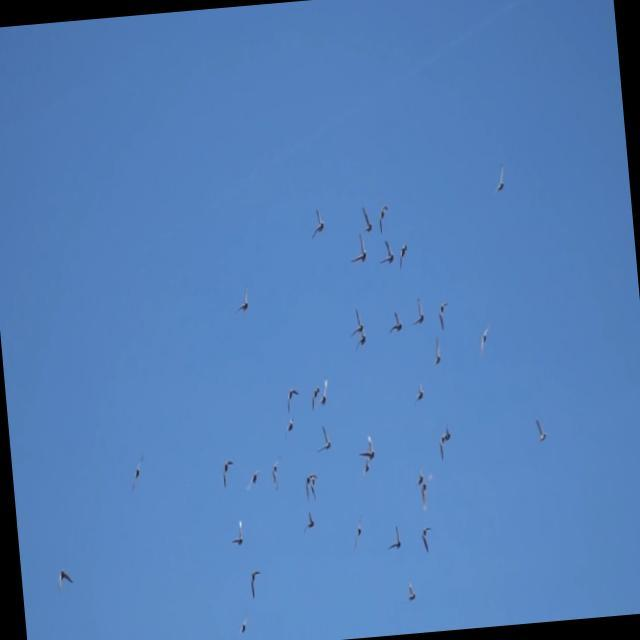bird: (417, 472, 435, 520), (434, 423, 454, 462), (347, 512, 367, 551), (475, 320, 494, 358), (232, 283, 252, 316), (357, 429, 377, 462), (52, 564, 76, 591), (383, 523, 403, 555), (348, 232, 368, 263), (307, 206, 325, 239), (490, 160, 506, 197), (428, 331, 444, 368), (268, 454, 283, 493), (347, 306, 365, 338), (436, 296, 451, 333), (129, 452, 146, 484), (219, 455, 235, 489), (377, 238, 395, 268), (314, 424, 331, 455), (242, 466, 261, 493), (248, 566, 262, 601), (410, 296, 425, 328), (317, 374, 331, 408), (386, 309, 403, 336), (299, 507, 316, 534), (374, 201, 389, 231), (359, 206, 373, 238), (533, 415, 547, 447), (419, 522, 433, 554), (228, 517, 243, 546), (286, 386, 301, 413), (309, 383, 321, 416), (397, 241, 410, 271), (307, 468, 319, 500), (302, 470, 314, 502), (412, 379, 426, 406), (411, 466, 426, 489), (237, 615, 251, 638), (282, 416, 296, 437), (405, 581, 417, 604), (353, 332, 367, 351), (361, 457, 372, 479), (123, 633, 139, 640)
